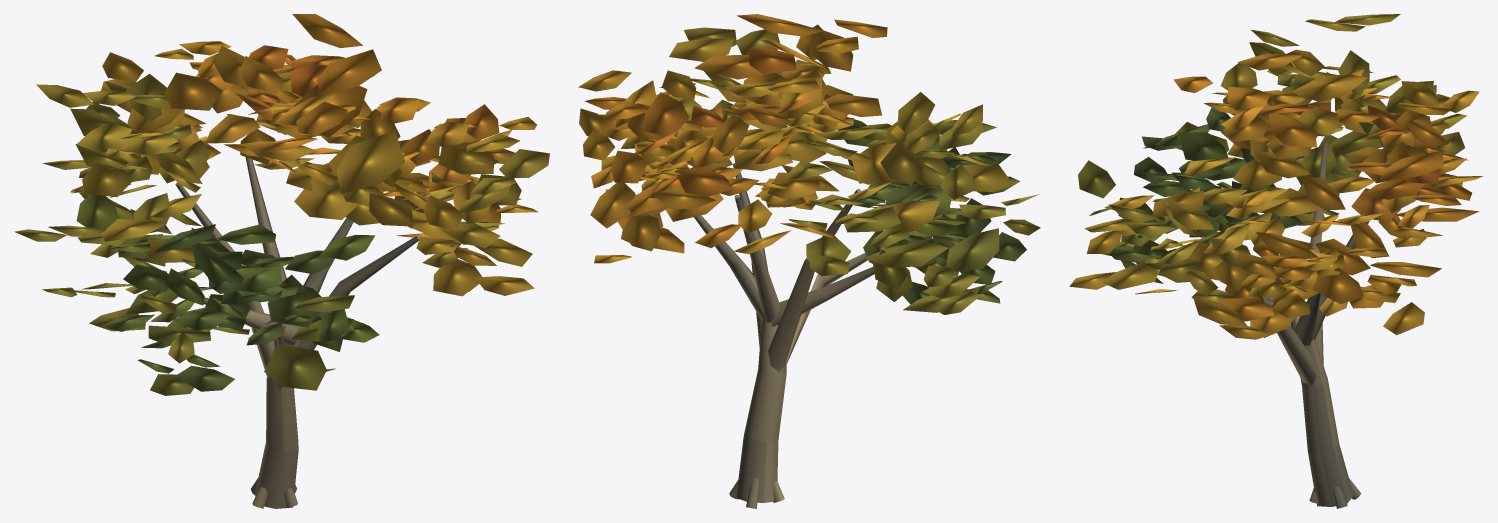
Rendered from ART_MoatTree_Airy.lod.glb.
3 renders of one model, left to right at view 1: azimuth 30°, elevation 25°; view 2: azimuth 150°, elevation 25°; view 3: azimuth 270°, elevation 25°, orthographic. The views are drawn at different scales.
Parts seen in each view (by area): view 1: ART_MoatTree_Airy; view 2: ART_MoatTree_Airy; view 3: ART_MoatTree_Airy.
Part boxes in pixels (x1,y1,x2,y2): ART_MoatTree_Airy: [14, 14, 549, 508]; ART_MoatTree_Airy: [578, 14, 1040, 508]; ART_MoatTree_Airy: [1069, 14, 1482, 508].
Size of the model in its own units: 9.61 by 9.3 by 8.2.
